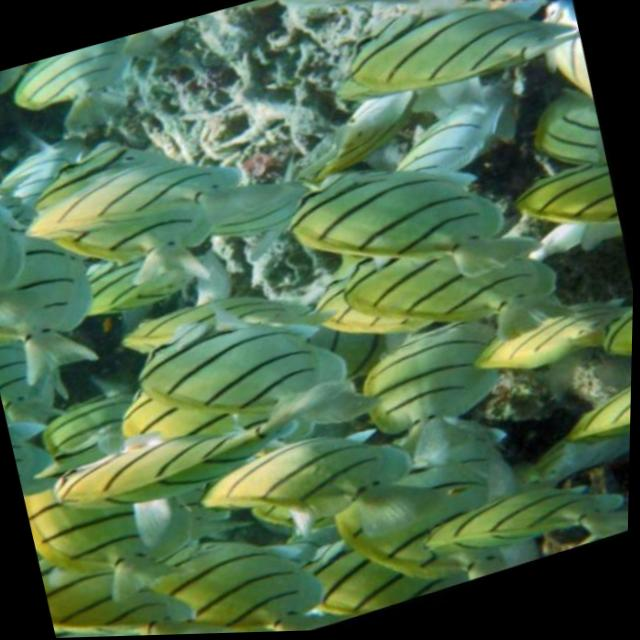Dead Coral: (176, 45, 337, 171)
